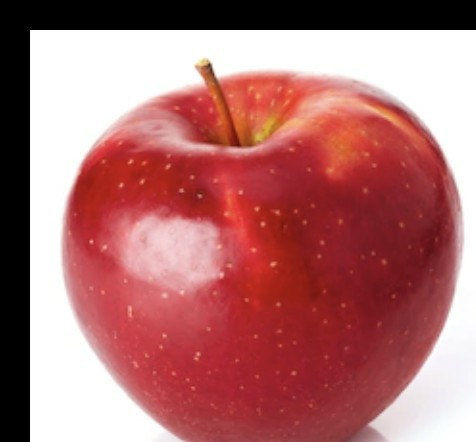fresh_apple: (69, 70, 465, 442)
